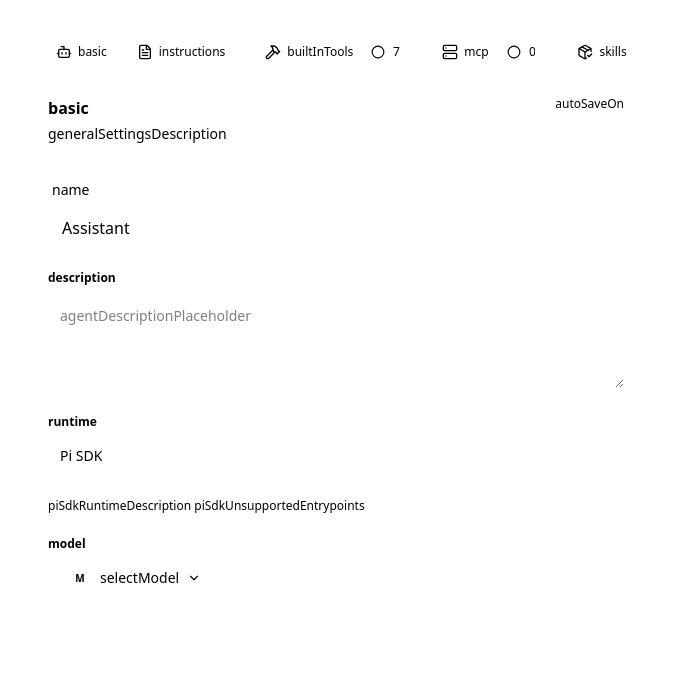
Test: agent configuration mutation feedback › translates pi_package_agent_busy autosave failures and keeps unsaved state
The width and height of the screenshot is (689, 695).
Replace the text in the field labelled "name" with "Changed": [336, 228] box [48,206,624,250]
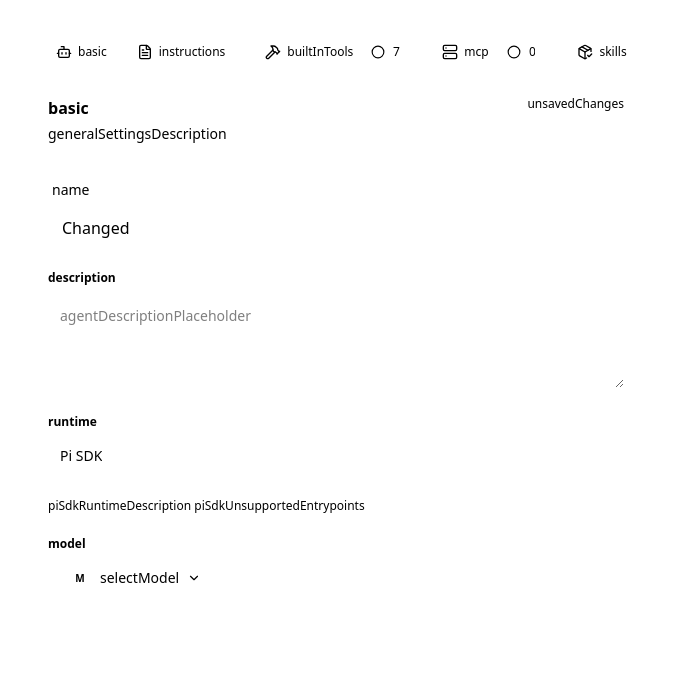
Leave the field labelled "name", box [48,206,624,250]
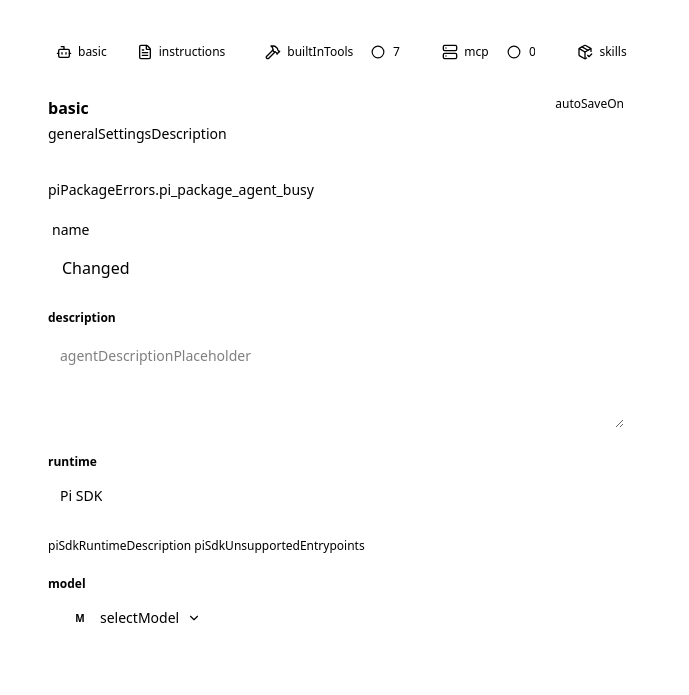
expect the message "piPackageErrors.pi_package_agent_busy" is shown: met, box [48,180,314,199]
